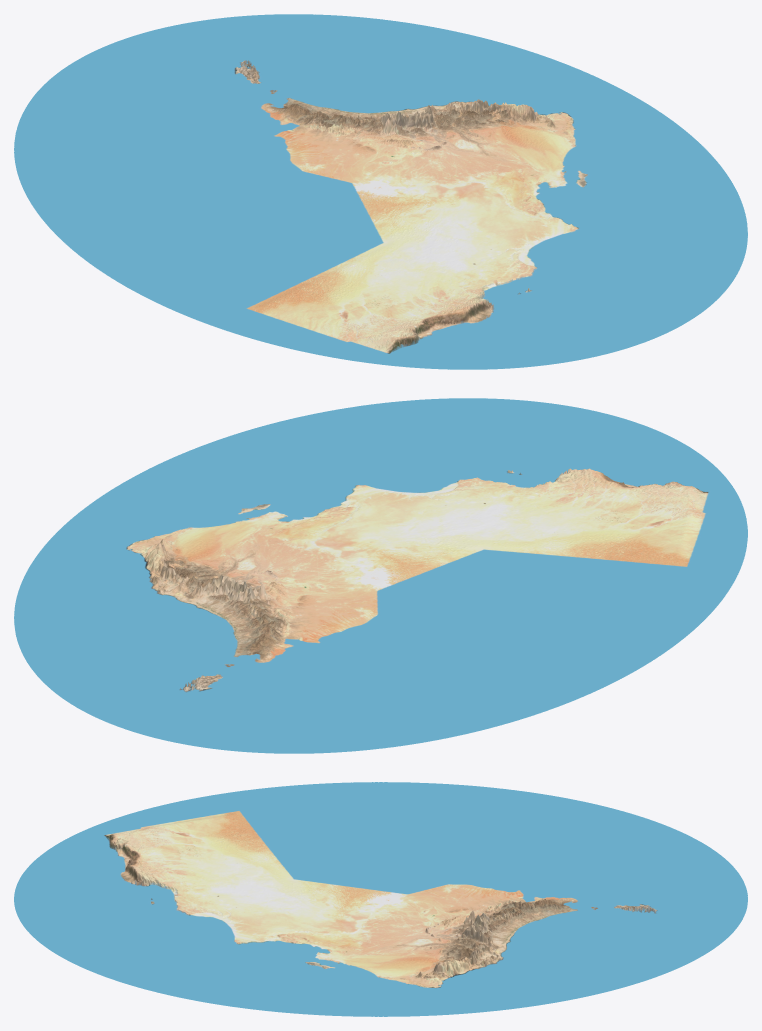
Rendered from OMN-previa-terrain.glb.
3 views of the same model, one above another, from view 1: azimuth 30°, elevation 25°; view 2: azimuth 150°, elevation 25°; view 3: azimuth 270°, elevation 25° (orthographic). The views are drawn at different scales.
Visible parts, largest first — view 1: Omã; view 2: Omã; view 3: Omã.
Boxes of the visible parts, x1,y1,x2,y2 form: Omã: (14, 14, 747, 369); Omã: (14, 398, 747, 753); Omã: (14, 782, 747, 1016).
Size of the model in its own units: 1.76 by 0.0548 by 2.32.
1 material, 1 textured.
